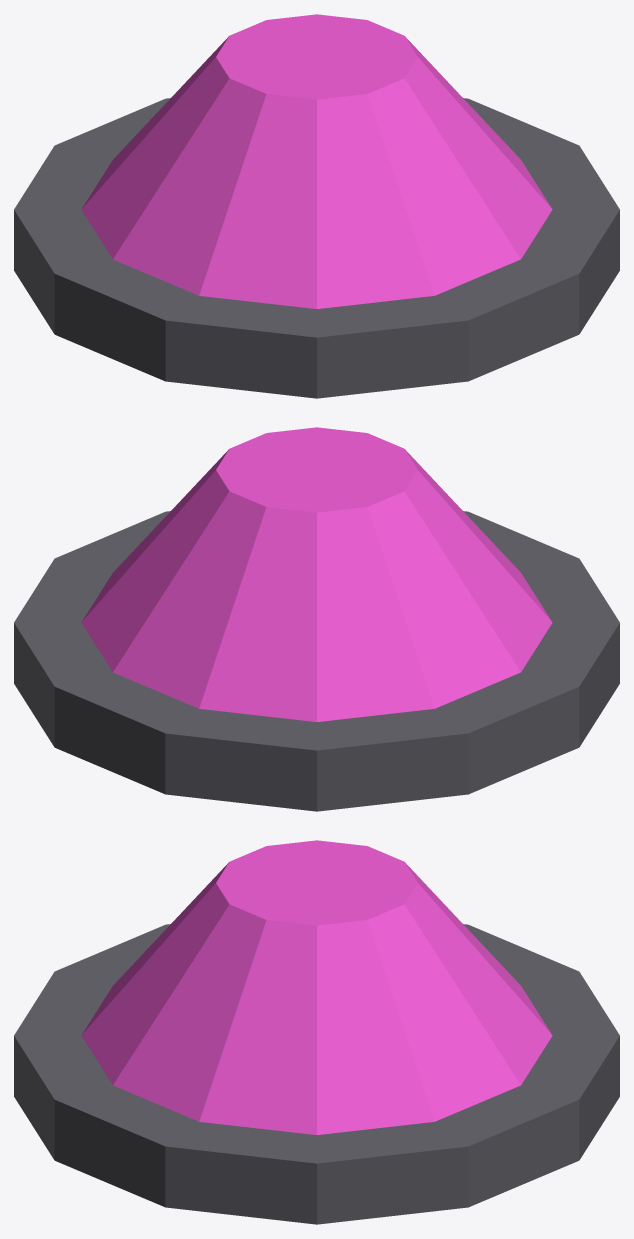
Rendered from placeholder_blister.glb.
3 renders of one model, top to bottom at view 1: azimuth 30°, elevation 25°; view 2: azimuth 150°, elevation 25°; view 3: azimuth 270°, elevation 25°, orthographic.
Size of the model in its own units: 0.18 by 0.07 by 0.18.
